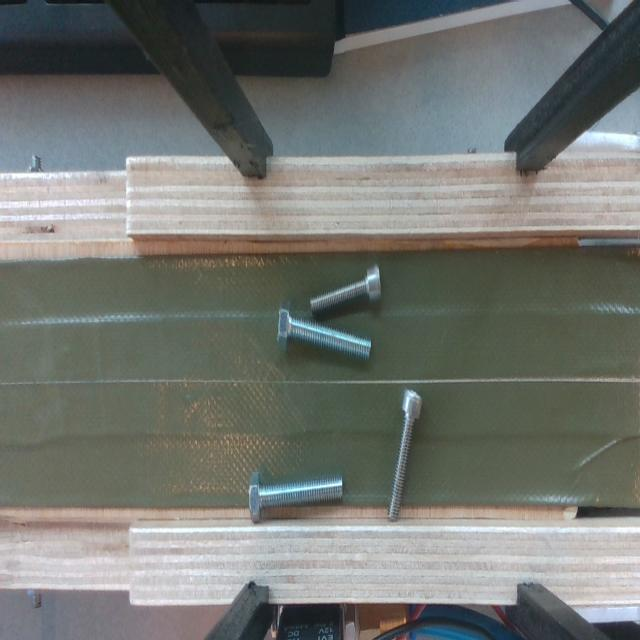Bolt: (278, 302, 371, 359), (249, 471, 342, 522), (389, 390, 422, 520), (310, 264, 381, 314)
